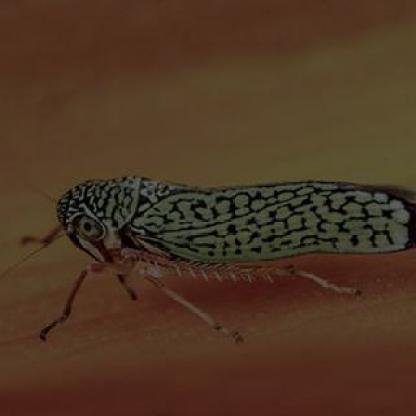green-leafhopper: (20, 178, 416, 346)
